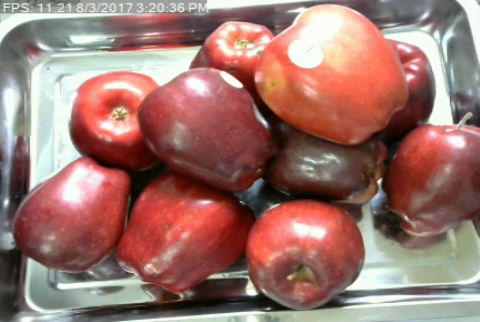Apple: (251, 0, 411, 146), (112, 166, 257, 298), (134, 66, 281, 194), (9, 154, 133, 274), (244, 196, 367, 311), (379, 110, 479, 237), (260, 120, 393, 208), (67, 67, 165, 171), (184, 18, 277, 95)
